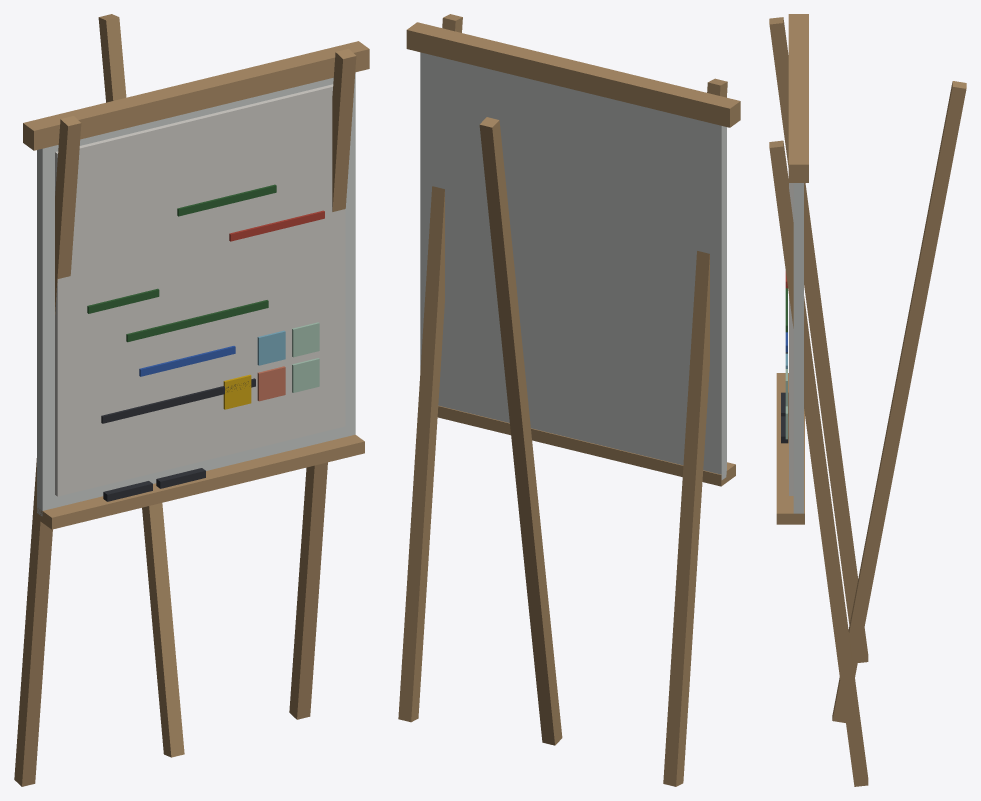
File: whiteboard-09.glb
The picture shows the model from 3 angles, left to right: view 1: azimuth 30°, elevation 25°; view 2: azimuth 150°, elevation 25°; view 3: azimuth 270°, elevation 25°; orthographic projection. The views are drawn at different scales.
Visible parts, largest first — view 1: whiteboard_09; view 2: whiteboard_09; view 3: whiteboard_09.
Part boxes in pixels (x1,y1,x2,y2): whiteboard_09: [14, 14, 369, 786]; whiteboard_09: [398, 14, 740, 786]; whiteboard_09: [769, 14, 966, 786].
Size of the model in its own units: 0.8854 by 1.75 by 0.4892.
